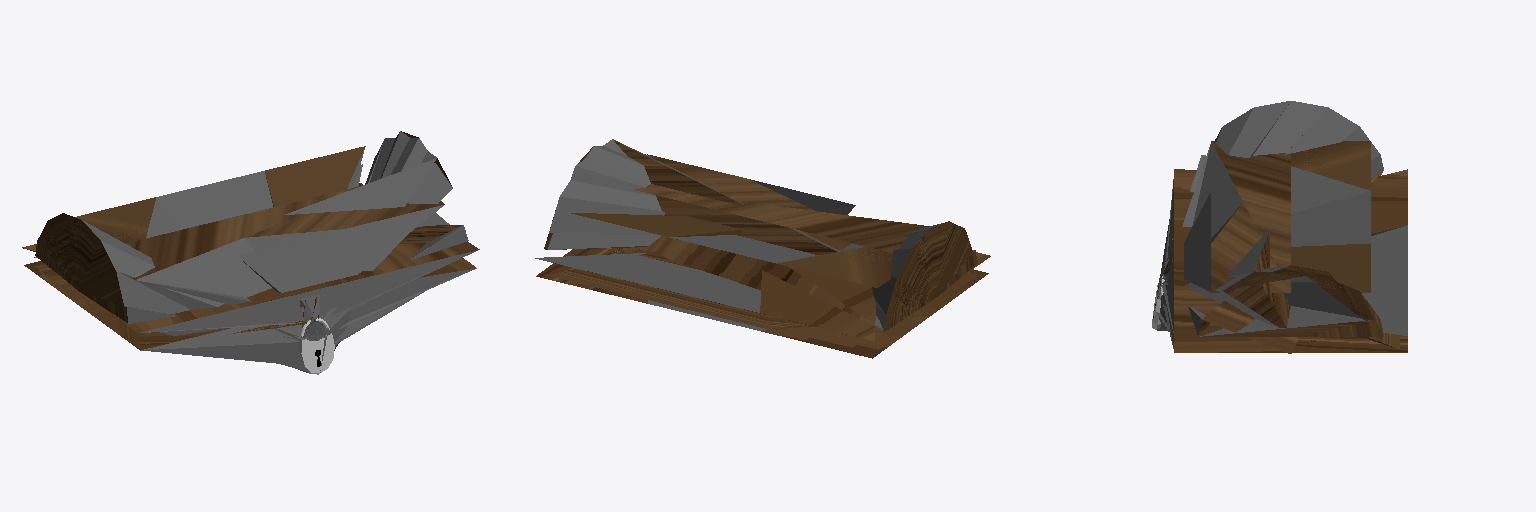
3 renders of one model, left to right at view 1: azimuth 30°, elevation 25°; view 2: azimuth 150°, elevation 25°; view 3: azimuth 270°, elevation 25°, orthographic.
Parts seen in each view (by area): view 1: Lid_lowPoly, Cylinder004; view 2: Lid_lowPoly; view 3: Lid_lowPoly.
Part boxes in pixels (x1,y1,x2,y2): Lid_lowPoly: (22, 131, 479, 372); Cylinder004: (300, 318, 334, 374); Lid_lowPoly: (535, 139, 990, 358); Lid_lowPoly: (1153, 101, 1407, 353).
Size of the model in its own units: 102 by 41.45 by 65.77.
Materials: 8 (6 with a texture image).